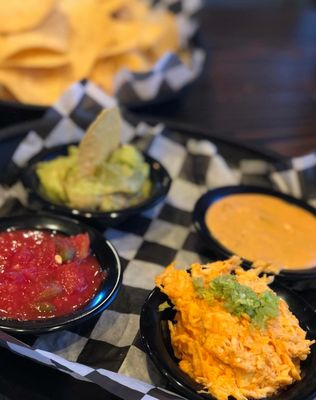sandwich: (0, 334, 194, 400)
sushi: (0, 216, 122, 336)
